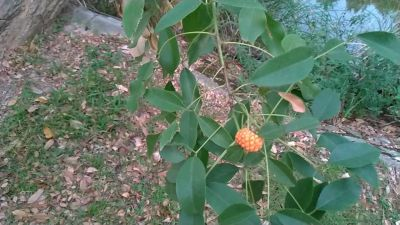eggs: (236, 126, 263, 152)
